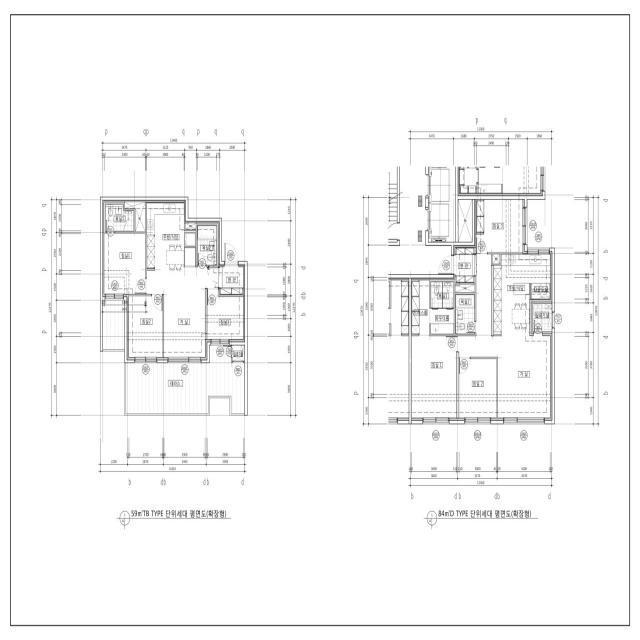space_bedroom: (412, 336, 456, 420), (103, 233, 145, 296), (476, 200, 524, 252), (127, 296, 163, 360), (459, 359, 496, 420), (207, 290, 245, 342)
space_dressroom: (412, 280, 429, 335)
space_elevator: (428, 203, 455, 242), (428, 167, 456, 204)
space_elevator_hall: (388, 167, 451, 275)
space_front: (454, 247, 475, 283)
space_kitchen: (494, 252, 550, 334), (147, 201, 196, 271), (218, 265, 245, 295)
space_living_room: (459, 254, 550, 420), (147, 267, 218, 360)
space_other: (125, 201, 145, 232), (458, 200, 472, 242), (431, 309, 454, 334), (531, 283, 552, 299), (455, 284, 475, 292), (492, 254, 500, 264), (185, 222, 196, 229)
space_outdoor_room: (533, 304, 552, 332), (232, 345, 245, 361)
space_staircase: (388, 167, 397, 242)
space_toilet: (105, 204, 134, 232), (197, 225, 217, 265), (455, 294, 475, 334), (431, 281, 454, 308)
